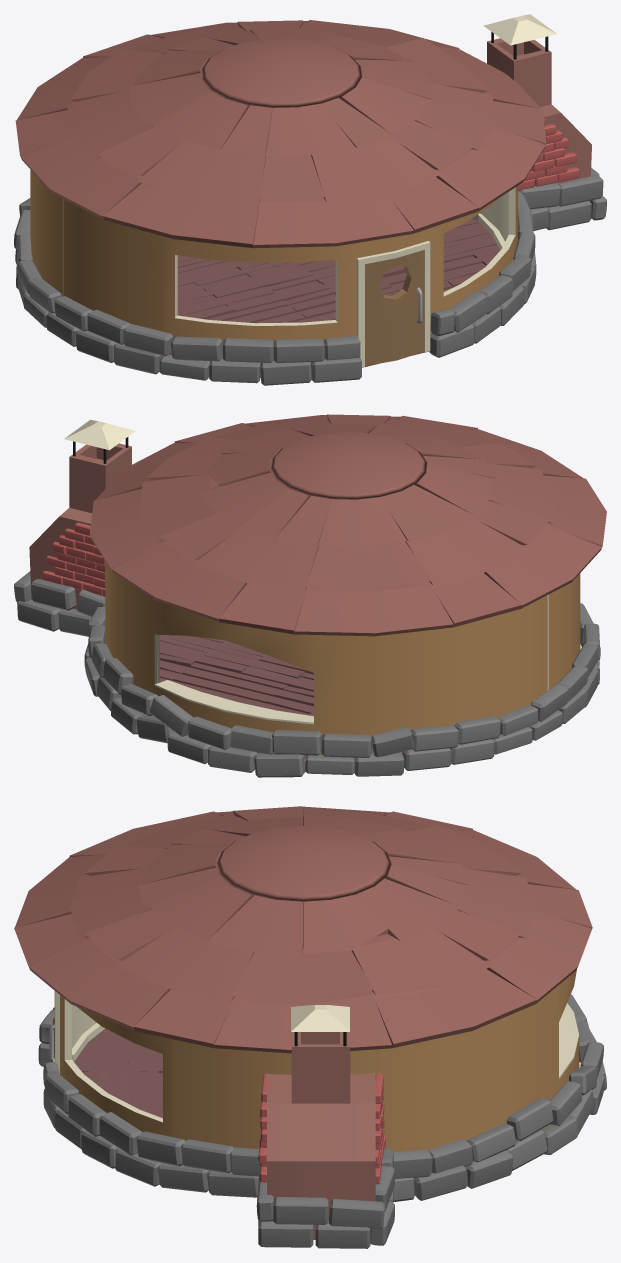
File: atoll_baker_house.fbx
The picture shows the model from 3 angles, top to bottom: view 1: azimuth 30°, elevation 25°; view 2: azimuth 150°, elevation 25°; view 3: azimuth 270°, elevation 25°; orthographic projection. The views are drawn at different scales.
Parts seen in each view (by area): view 1: roof, polySurface3, floor2, wall2, polySurface4, door1, polySurface2, stone3, stone5, stone6, stone8, stone2 (+20 smaller); view 2: roof, polySurface2, wall2, floor2, polySurface3, stone34, stone23, stone35, stone45, stone31, stone20, stone22 (+23 smaller); view 3: roof, wall2, polySurface4, floor2, stone50, stone44, stone62, stone51, stone49, stone64, stone40, stone39 (+18 smaller).
Part boxes in pixels (x1,y1,x2,y2): roof: [15, 20, 546, 248]; polySurface3: [57, 196, 396, 367]; floor2: [177, 218, 500, 367]; wall2: [473, 14, 591, 220]; polySurface4: [394, 186, 517, 352]; door1: [365, 250, 424, 365]; polySurface2: [30, 169, 63, 296]; stone3: [273, 338, 324, 362]; stone5: [223, 338, 273, 362]; stone6: [171, 336, 222, 361]; stone8: [123, 324, 173, 356]; stone2: [260, 359, 311, 385]; roof: [89, 414, 606, 636]; polySurface2: [225, 592, 553, 763]; wall2: [29, 419, 236, 725]; floor2: [160, 635, 313, 716]; polySurface3: [547, 573, 581, 690]; stone34: [271, 730, 321, 755]; stone23: [254, 753, 305, 777]; stone35: [321, 733, 371, 757]; stone45: [31, 579, 76, 610]; stone31: [411, 725, 459, 751]; stone20: [354, 752, 404, 776]; stone22: [208, 746, 257, 772]; roof: [14, 806, 592, 1053]; wall2: [258, 970, 579, 1239]; polySurface4: [55, 991, 291, 1148]; floor2: [74, 1028, 162, 1118]; stone50: [273, 1197, 328, 1224]; stone44: [328, 1199, 384, 1228]; stone62: [181, 1139, 233, 1173]; stone51: [258, 1220, 313, 1247]; stone49: [315, 1221, 370, 1248]; stone64: [136, 1131, 185, 1166]; stone40: [414, 1165, 467, 1200]; stone39: [506, 1098, 553, 1140].
Bounding box in the file's own units: 2457 × 996 × 2162.
